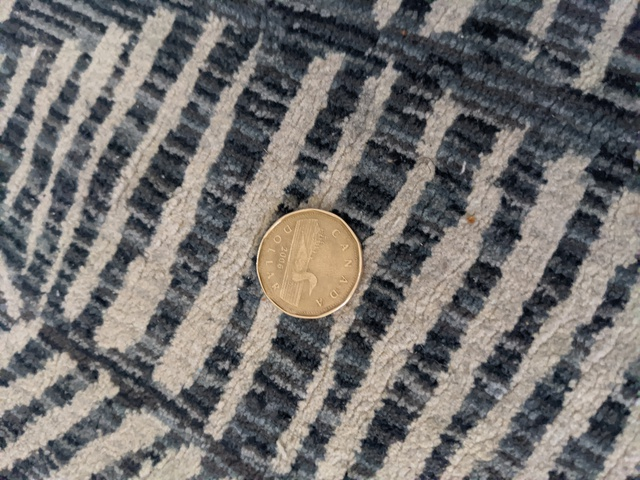loonie: (242, 198, 377, 328)
